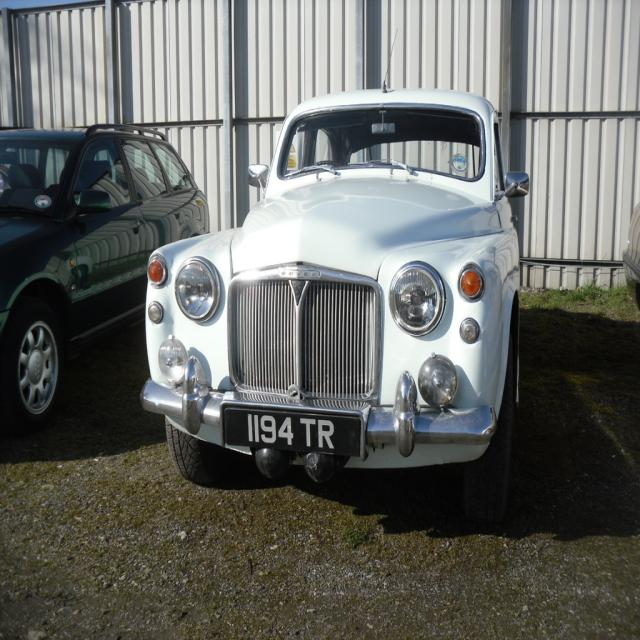car: (123, 81, 530, 501)
